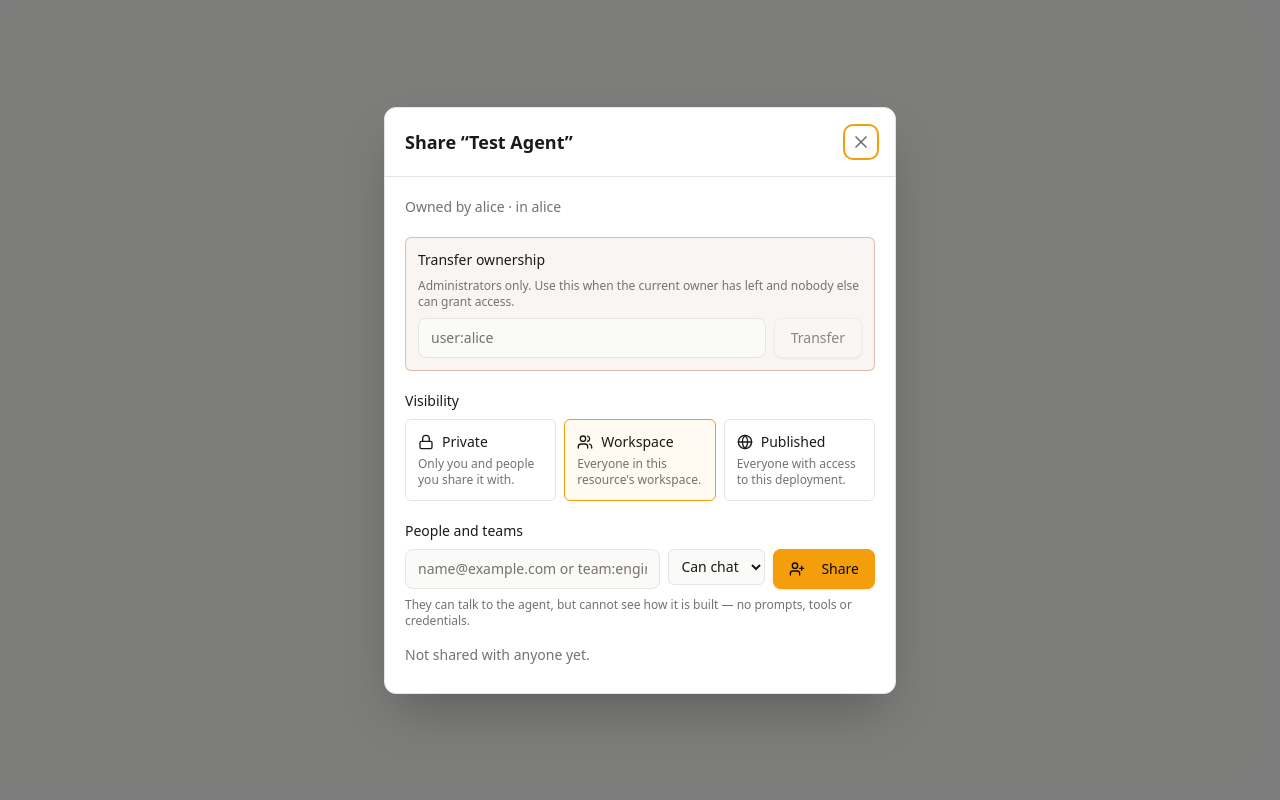
Test: ShareDialog › cancels a pending ownership transfer when the level is changed
Type "bob" into the field with test id "share-subject-input".
click(533, 568); type("bob")  # box x1=405 y1=548 x2=660 y2=588
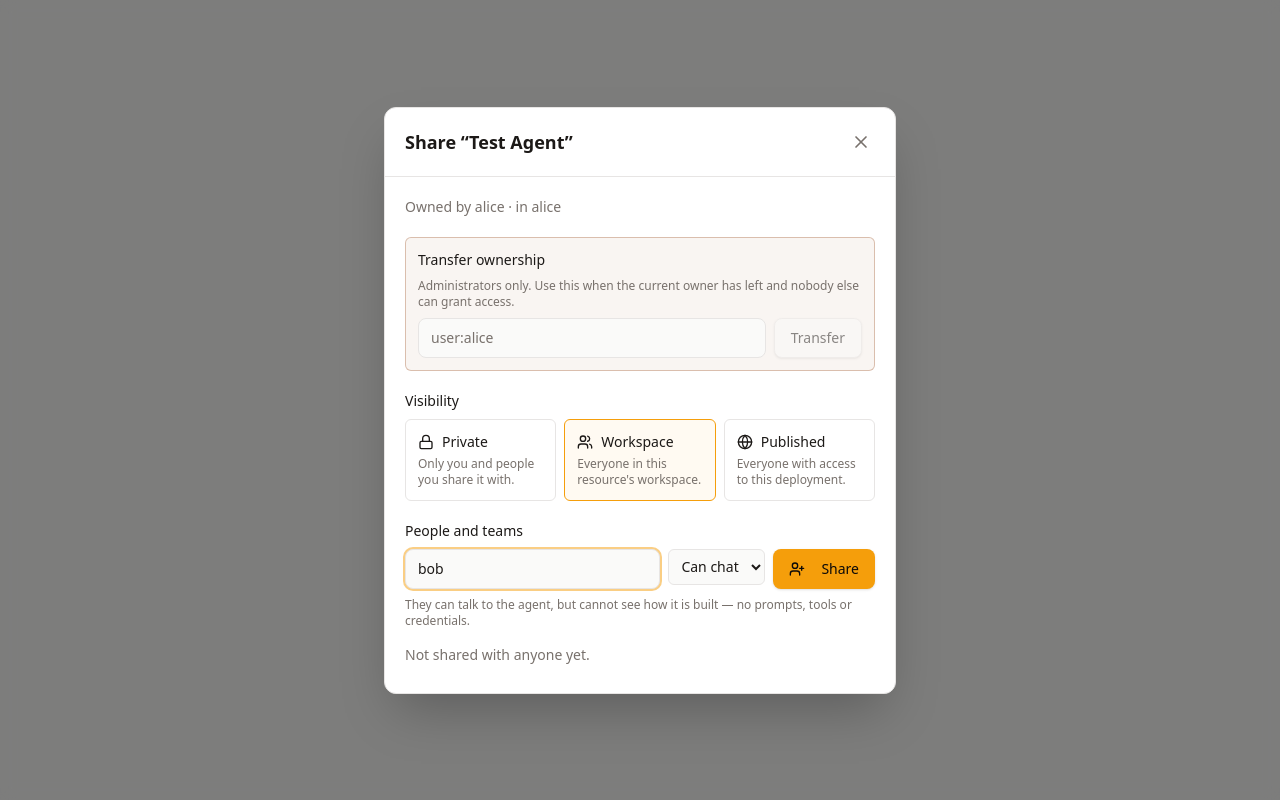
Select "Owner" in the dropdown with test id "share-level-select" at coordinates (717, 566), box x1=668 y1=548 x2=765 y2=584
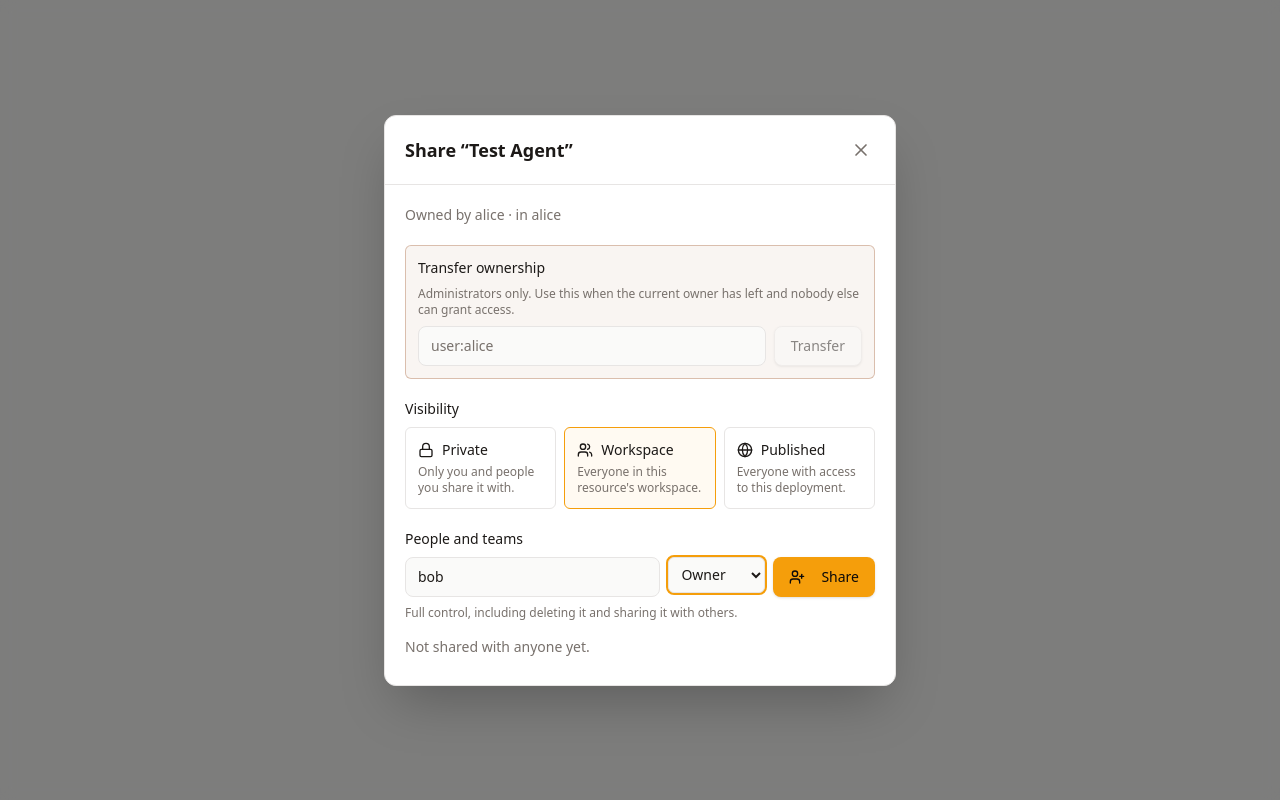
Click the button with test id "share-submit".
click(824, 576)  # box x1=773 y1=556 x2=875 y2=596
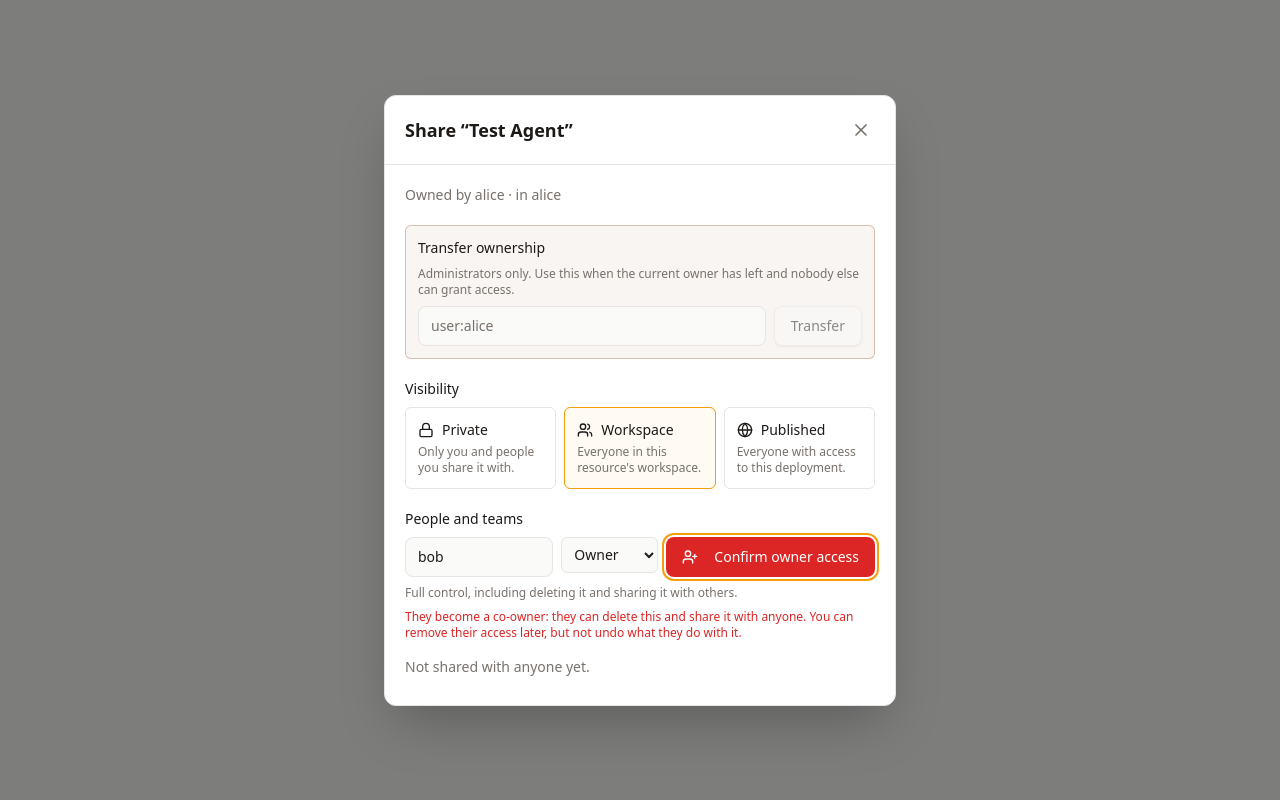
Check: the message with test id "share-owner-warning" is shown, box x1=405 y1=608 x2=875 y2=640
Select "Can view" in the dropdown with test id "share-level-select" at coordinates (610, 554), box x1=561 y1=536 x2=658 y2=572
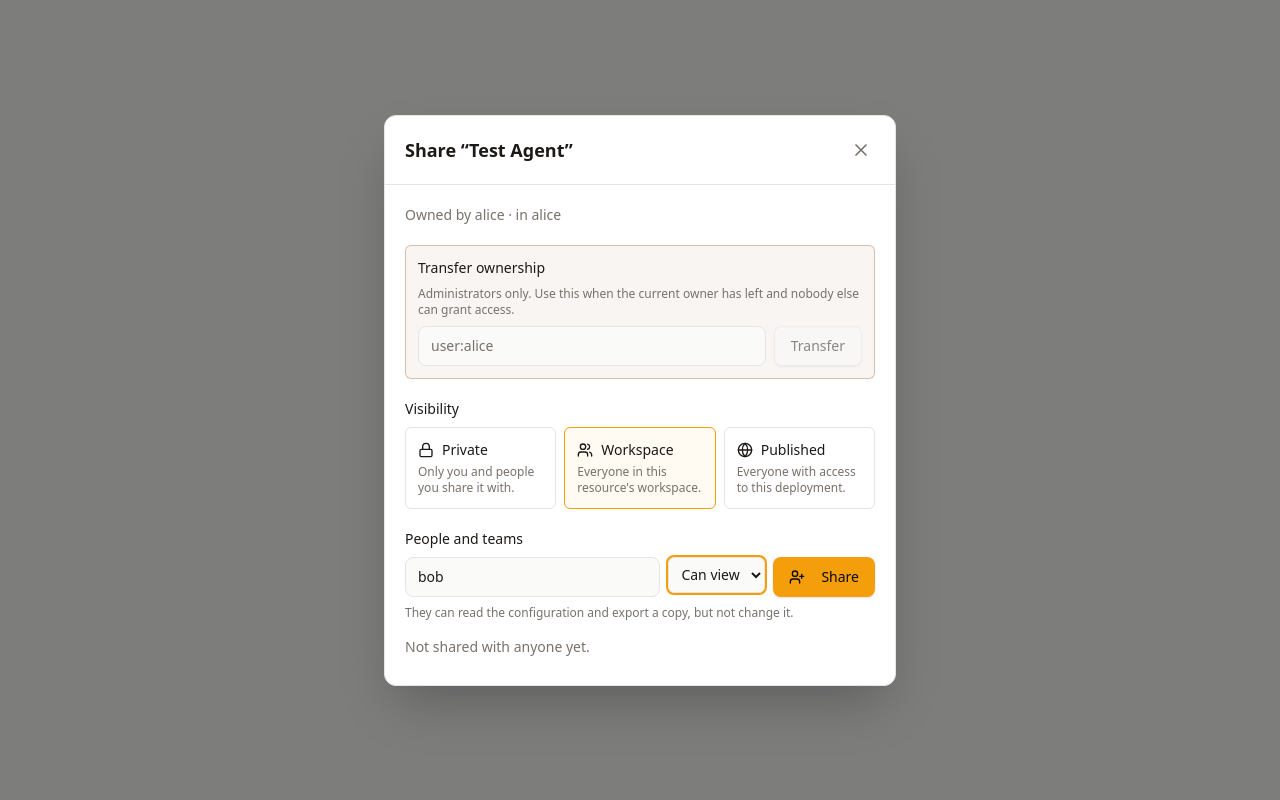
Check: the message with test id "share-owner-warning" is gone
